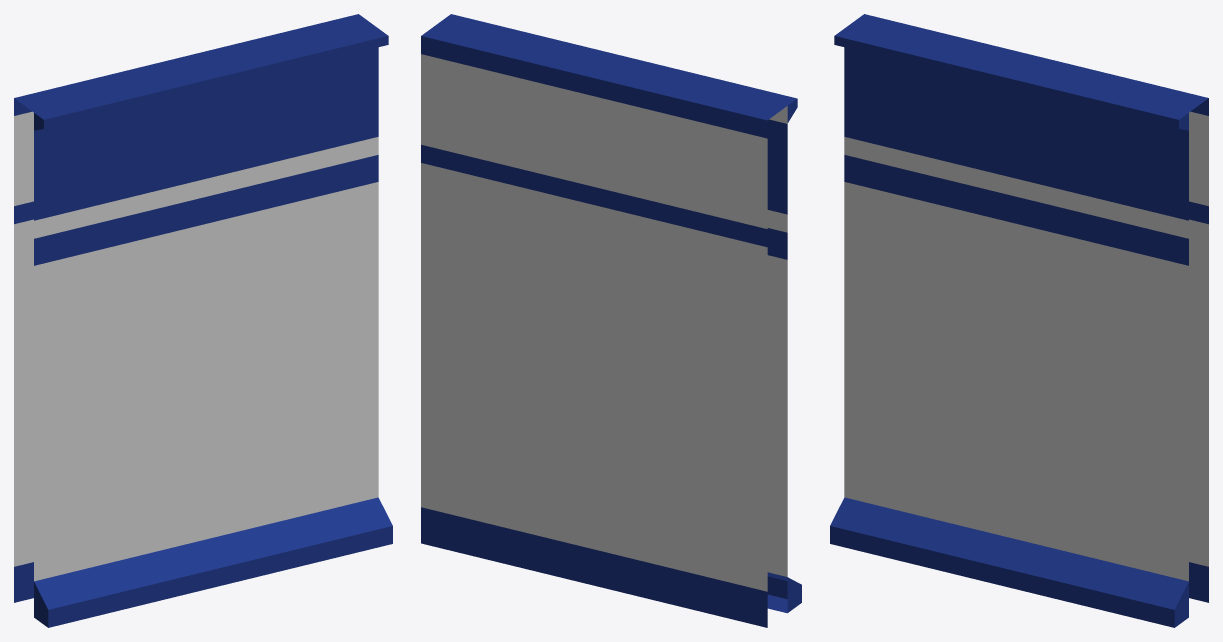
Rendered from wall_2_2x2_8.glb.
3 renders of one model, left to right at view 1: azimuth 30°, elevation 25°; view 2: azimuth 150°, elevation 25°; view 3: azimuth 330°, elevation 25°, orthographic.
Visible parts, largest first — view 1: Cube; view 2: Cube; view 3: Cube.
Part boxes in pixels (x1,y1,x2,y2): Cube: (14,14,392,627); Cube: (421,14,801,627); Cube: (830,14,1208,627).
Size of the model in its own units: 2 by 2.8 by 0.3439.
